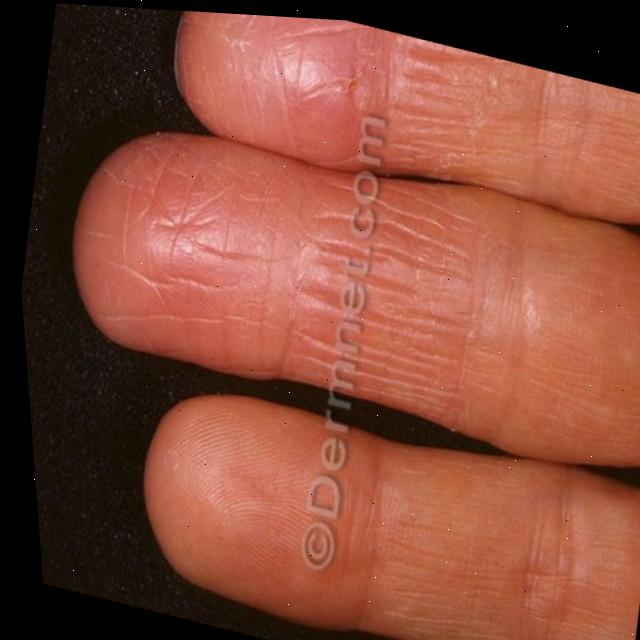Eczema: (295, 189, 510, 409), (363, 434, 556, 640), (347, 25, 507, 170)
